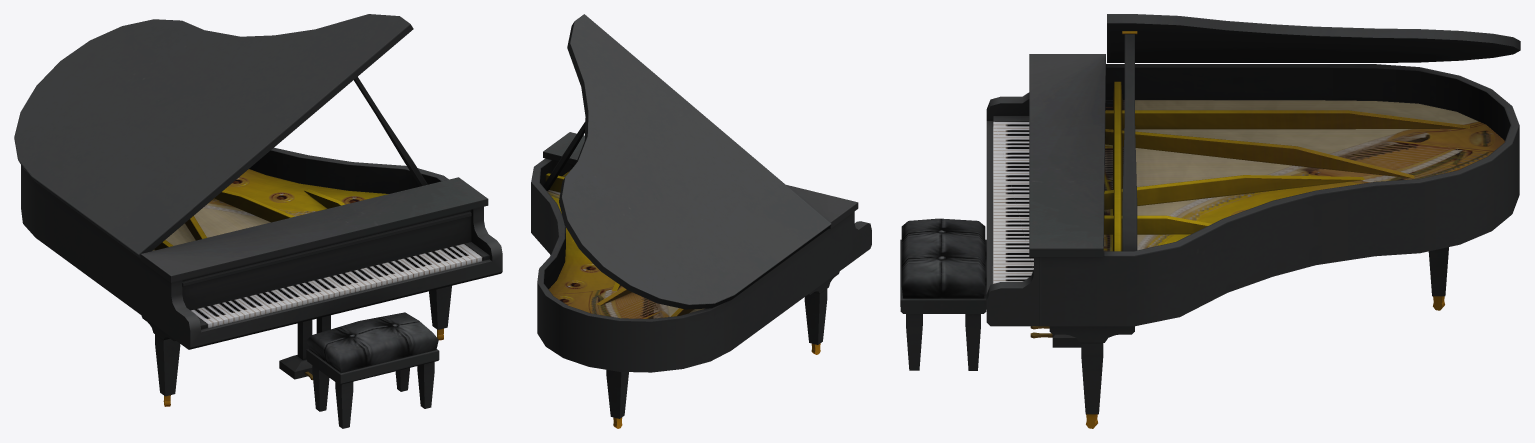
Rendered from Sun_0151_Grand_Piano.fbx.
3 views of the same model, side by side, from view 1: azimuth 30°, elevation 25°; view 2: azimuth 150°, elevation 25°; view 3: azimuth 270°, elevation 25° (orthographic). The views are drawn at different scales.
Visible parts, largest first — view 1: Sun_0151_Grand_Piano; view 2: Sun_0151_Grand_Piano; view 3: Sun_0151_Grand_Piano.
Part boxes in pixels (x1,y1,x2,y2): Sun_0151_Grand_Piano: [14, 14, 502, 428]; Sun_0151_Grand_Piano: [531, 14, 871, 428]; Sun_0151_Grand_Piano: [900, 14, 1520, 428].
Size of the model in its own units: 241 by 229 by 323.
